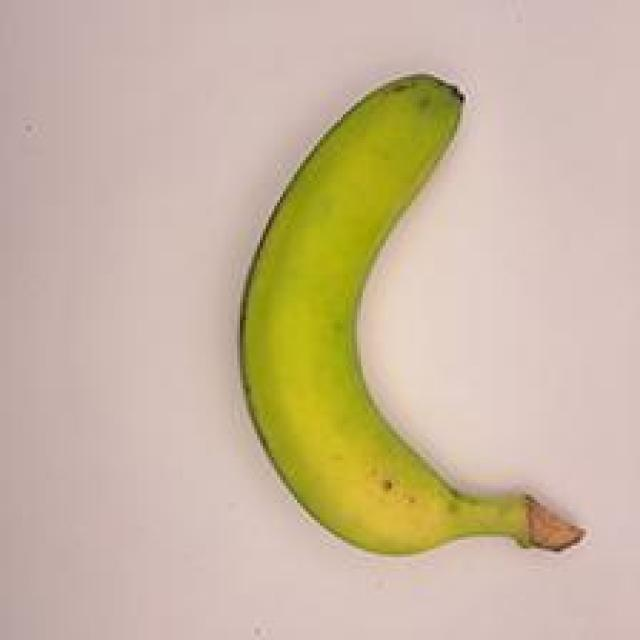Unripe: (208, 52, 608, 587)
